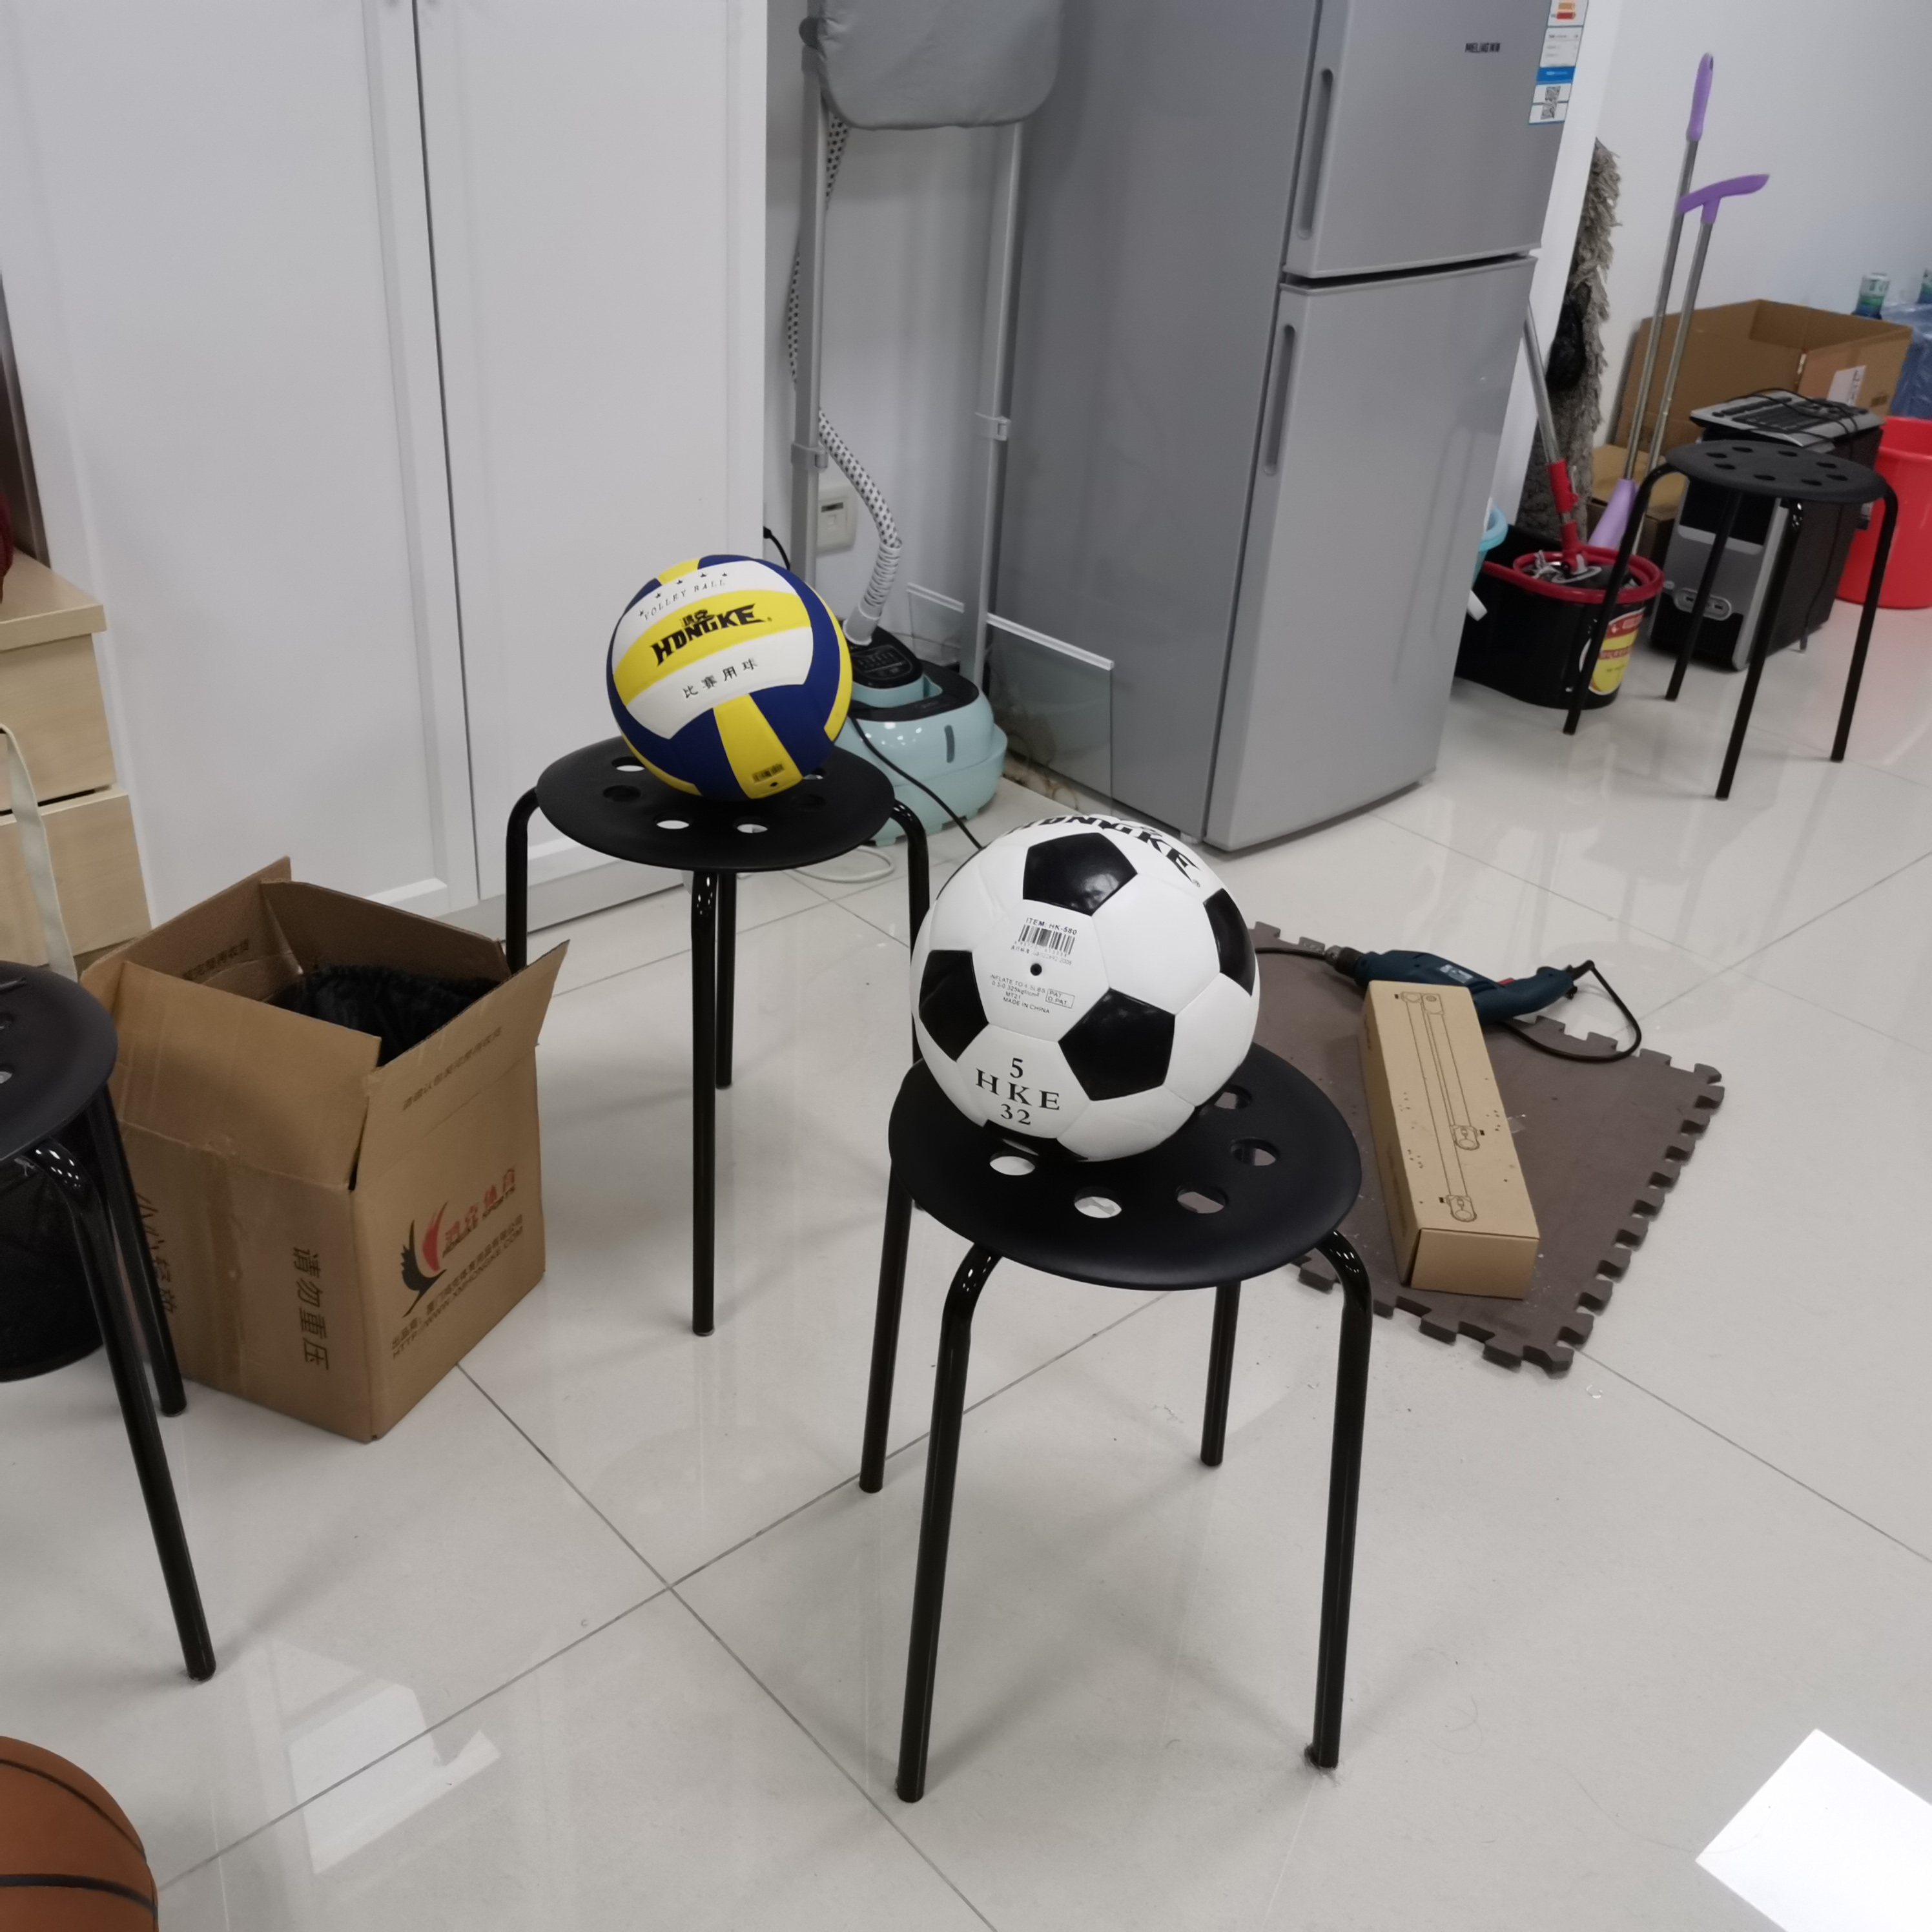football: (908, 812, 1261, 1169)
volleyball: (610, 554, 858, 805)
